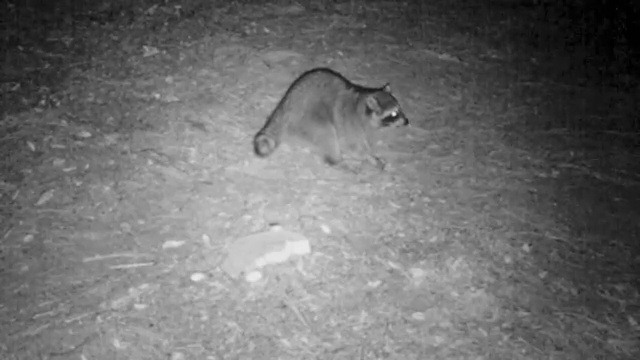raccoon: (252, 63, 412, 173)
